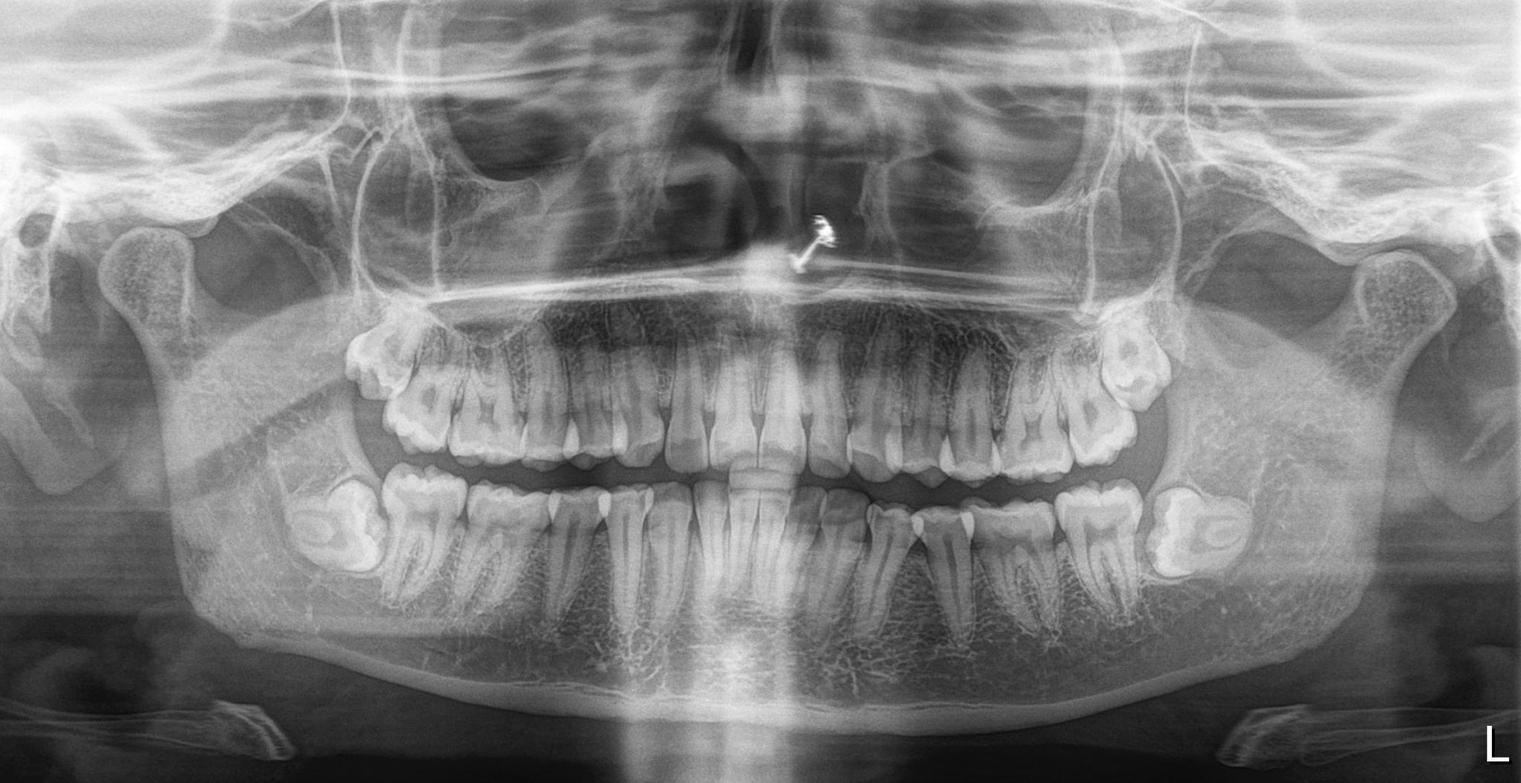Dental Caries: (991, 529, 1064, 567)
Impacted Third Molar: (1155, 490, 1266, 593), (280, 479, 388, 573), (1101, 308, 1192, 414), (332, 316, 433, 393)
